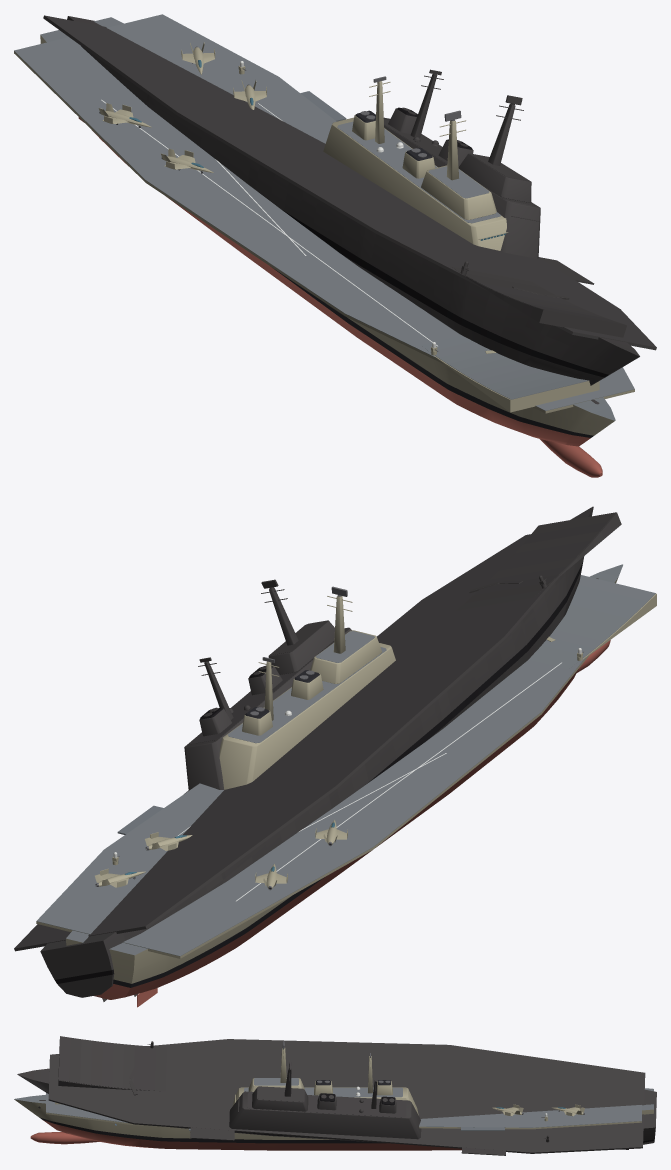
The model's file is carrier__ins_vikrant.glb.
3 views of the same model, one above another, from view 1: azimuth 30°, elevation 25°; view 2: azimuth 150°, elevation 25°; view 3: azimuth 270°, elevation 25° (orthographic). The views are drawn at different scales.
Parts seen in each view (by area): view 1: Hull_Mesh, Wreck; view 2: Wreck, Hull_Mesh; view 3: Wreck, Hull_Mesh, DeckPlane0_Mesh, DeckPlane1_Mesh.
Part boxes in pixels (left/top/right/bottom): Hull_Mesh: left=14, top=14, right=634, bottom=477; Wreck: left=43, top=15, right=656, bottom=404; Wreck: left=14, top=506, right=621, bottom=1001; Hull_Mesh: left=36, top=564, right=656, bottom=1007; Wreck: left=17, top=1036, right=656, bottom=1155; Hull_Mesh: left=14, top=1048, right=653, bottom=1150; DeckPlane0_Mesh: left=552, top=1104, right=584, bottom=1116; DeckPlane1_Mesh: left=492, top=1104, right=523, bottom=1116.
Size of what is drawn, in the model's own units: 72.24 by 56.62 by 274.
